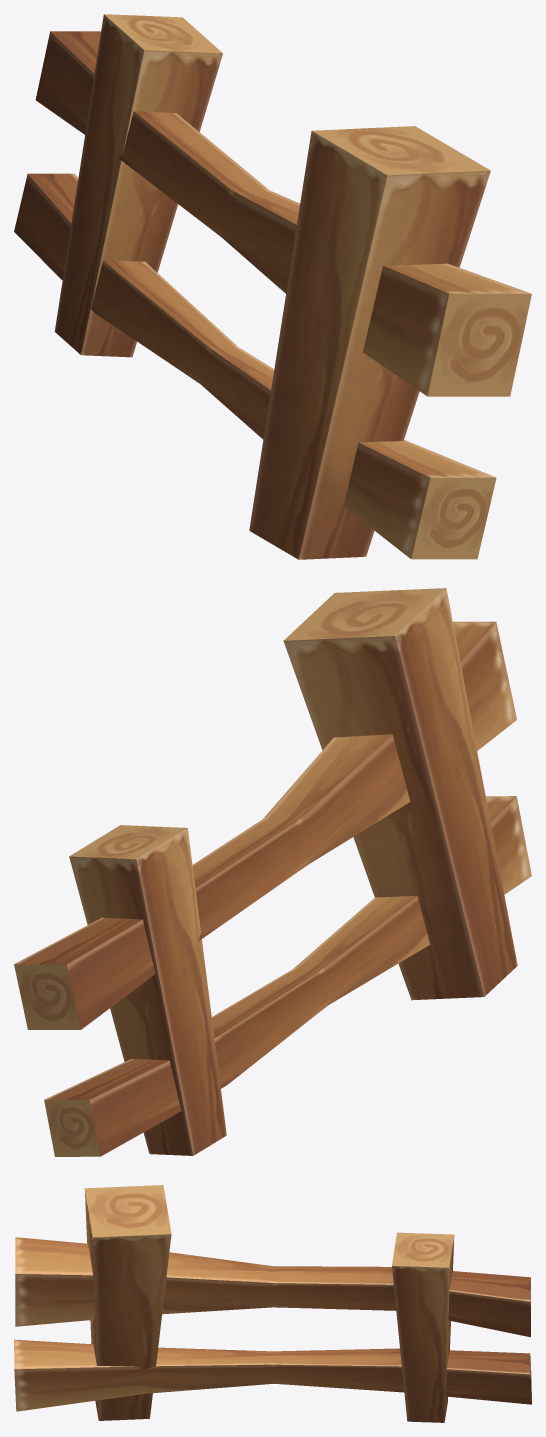
3 renders of one model, top to bottom at view 1: azimuth 30°, elevation 25°; view 2: azimuth 150°, elevation 25°; view 3: azimuth 270°, elevation 25°, orthographic. The views are drawn at different scales.
Visible parts, largest first — view 1: Box005; view 2: Box005; view 3: Box005.
Part boxes in pixels (x1,y1,x2,y2): Box005: [14, 14, 531, 559]; Box005: [14, 588, 531, 1156]; Box005: [14, 1185, 531, 1422].
Bounding box in the file's own units: 106 × 394 × 198.
